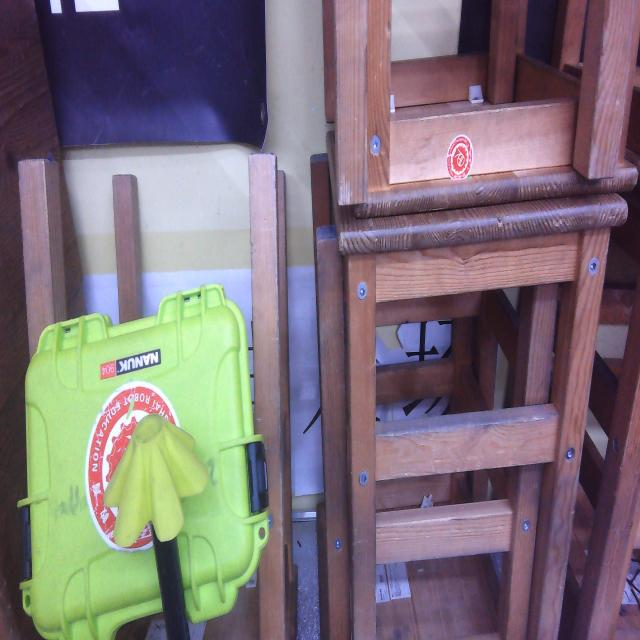Yellow-Stake-Head: (103, 413, 208, 548)
